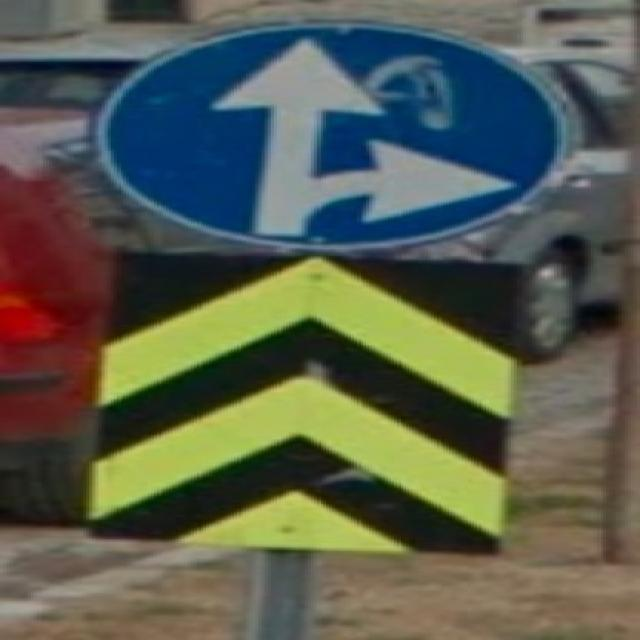Straight or Right: (97, 25, 574, 252)
